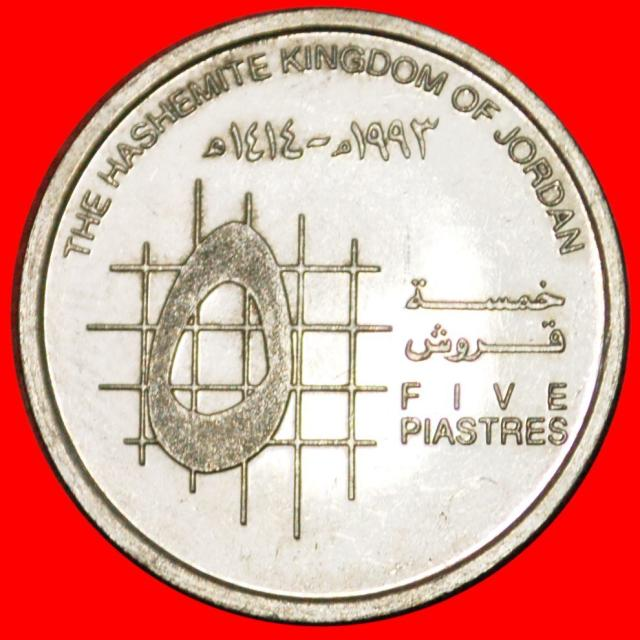5-coins: (13, 5, 628, 629)
